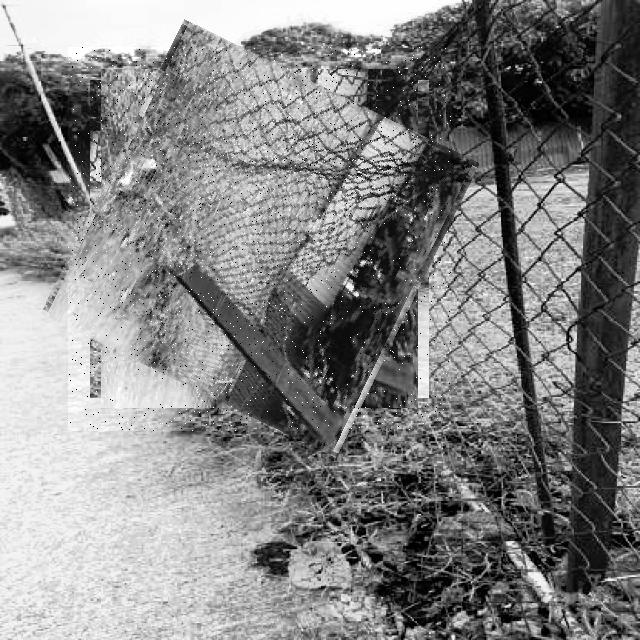anomaly-fence: (68, 47, 451, 431)
